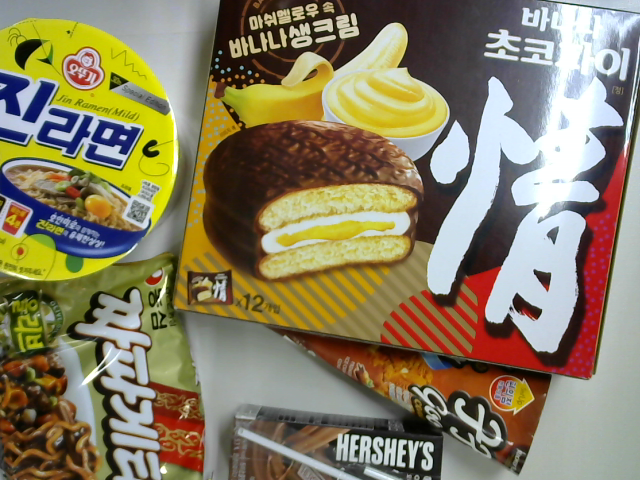Choco_Pie_Banana: (172, 1, 640, 381)
GooGoo_Cone_CVS: (260, 324, 553, 476)
Hush_Choco_Drink: (229, 403, 448, 480)
Jinlamyeon_Mild_Taste_Large_Cup: (1, 14, 183, 284)
Olive_Chapaghetti: (1, 248, 205, 480)
